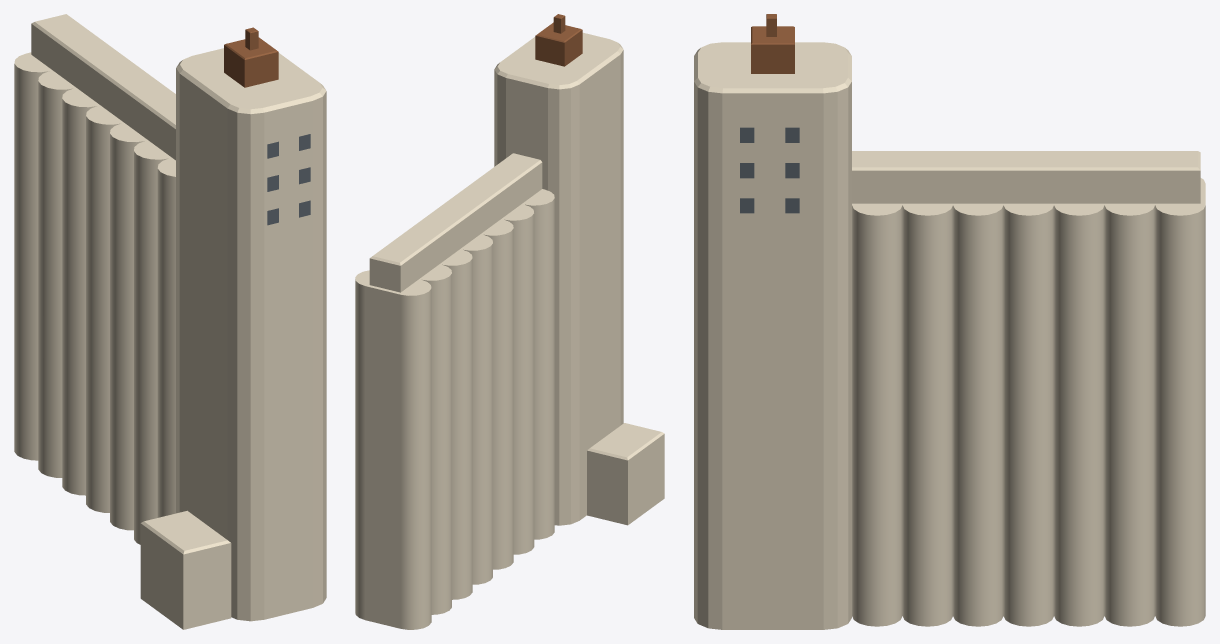
Rendered from phx-hayden-flour-mill-silos.glb.
3 renders of one model, left to right at view 1: azimuth 30°, elevation 25°; view 2: azimuth 150°, elevation 25°; view 3: azimuth 270°, elevation 25°, orthographic. The views are drawn at different scales.
Parts seen in each view (by area): view 1: Hayden Flour Mill Silos; view 2: Hayden Flour Mill Silos; view 3: Hayden Flour Mill Silos.
Part boxes in pixels (left/top/right/bottom): Hayden Flour Mill Silos: left=14, top=14, right=326, bottom=629; Hayden Flour Mill Silos: left=355, top=14, right=664, bottom=629; Hayden Flour Mill Silos: left=694, top=14, right=1205, bottom=629.
Bounding box in the file's own units: 13.55 × 50.2 × 39.55.
